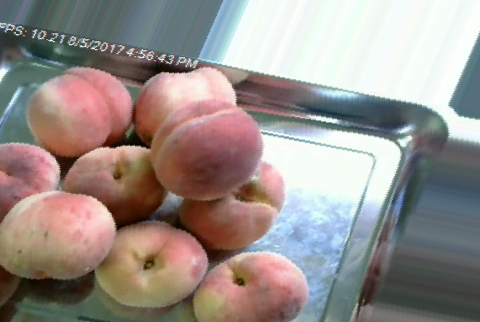Peach: (151, 97, 264, 203), (1, 189, 118, 281), (24, 67, 135, 157), (177, 161, 285, 252), (93, 221, 207, 307), (132, 64, 237, 149), (63, 144, 167, 224), (192, 251, 305, 322), (0, 141, 61, 217)
